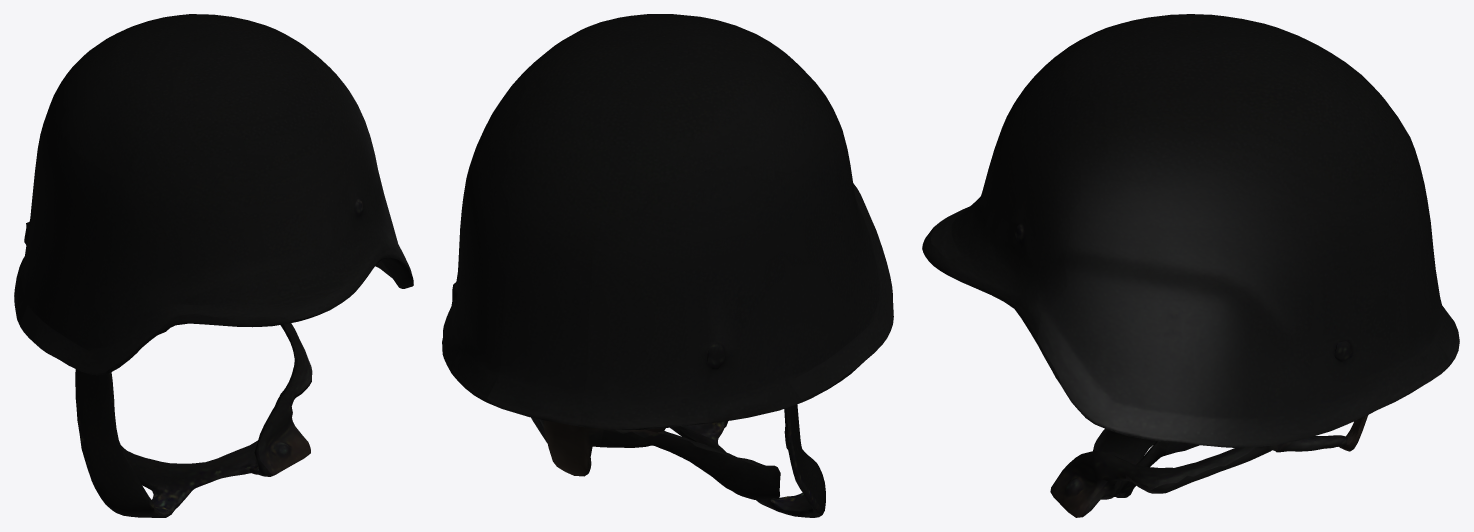
File: sample.fbx
3 views of the same model, side by side, from view 1: azimuth 30°, elevation 25°; view 2: azimuth 150°, elevation 25°; view 3: azimuth 270°, elevation 25° (orthographic). The views are drawn at different scales.
Parts seen in each view (by area): view 1: node_d4a53477_fbe4_4c6d_98c5_39aac5a5235d_mesh0; view 2: node_d4a53477_fbe4_4c6d_98c5_39aac5a5235d_mesh0; view 3: node_d4a53477_fbe4_4c6d_98c5_39aac5a5235d_mesh0.
Boxes of the visible parts, x1,y1,x2,y2 form: node_d4a53477_fbe4_4c6d_98c5_39aac5a5235d_mesh0: (14,14,413,517); node_d4a53477_fbe4_4c6d_98c5_39aac5a5235d_mesh0: (442,14,893,517); node_d4a53477_fbe4_4c6d_98c5_39aac5a5235d_mesh0: (922,14,1459,517).
Bounding box in the file's own units: 52.77 × 63.96 × 62.1.
1 material, 1 textured.
